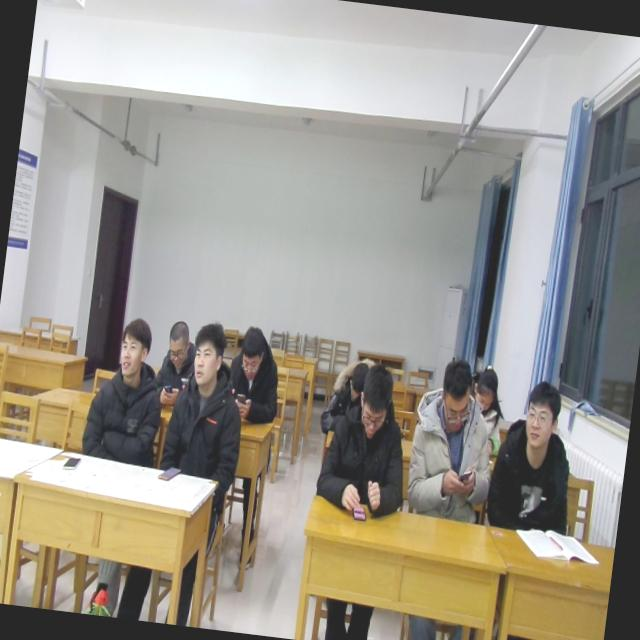bow: (222, 322, 288, 430), (316, 350, 381, 443), (150, 316, 202, 412)
down: (350, 358, 400, 448), (432, 352, 480, 441), (233, 318, 272, 382), (162, 314, 195, 378), (471, 355, 506, 415), (342, 356, 368, 401)
lookup: (514, 375, 563, 455), (111, 308, 158, 382), (186, 316, 229, 394)
sit: (402, 354, 505, 526), (156, 314, 257, 486), (482, 375, 584, 536), (314, 358, 416, 518), (78, 308, 174, 468), (458, 359, 512, 457)
